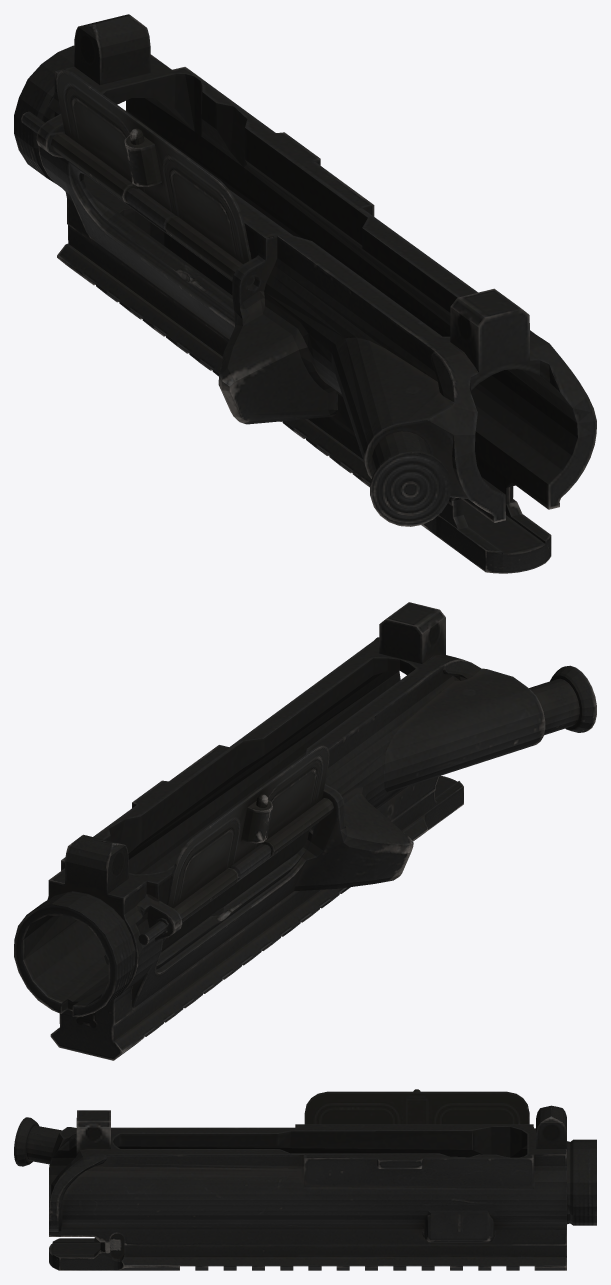
3 renders of one model, top to bottom at view 1: azimuth 30°, elevation 25°; view 2: azimuth 150°, elevation 25°; view 3: azimuth 270°, elevation 25°, orthographic. The views are drawn at different scales.
Parts seen in each view (by area): view 1: TW_55d355e64bdc2d962f8b4569_PZ_Import; view 2: TW_55d355e64bdc2d962f8b4569_PZ_Import; view 3: TW_55d355e64bdc2d962f8b4569_PZ_Import.
Boxes of the visible parts, bbox=[...] form: TW_55d355e64bdc2d962f8b4569_PZ_Import: bbox=[14, 14, 596, 573]; TW_55d355e64bdc2d962f8b4569_PZ_Import: bbox=[14, 602, 596, 1060]; TW_55d355e64bdc2d962f8b4569_PZ_Import: bbox=[14, 1089, 596, 1270].
Bounding box in the file's own units: 0.0343 × 0.119 × 0.0338.
1 material, 1 textured.
